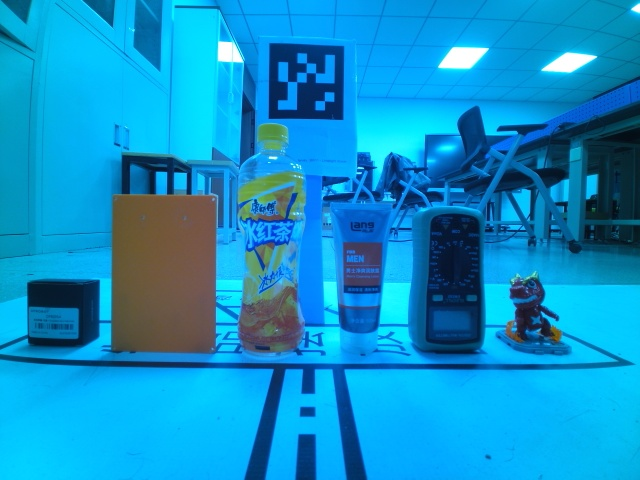banzi: (25, 277, 101, 347)
binghongcha: (494, 270, 574, 355)
dabao: (327, 199, 393, 355)
dianbiao: (237, 123, 307, 358)
hezi: (407, 204, 486, 354)
long: (111, 192, 216, 354)
